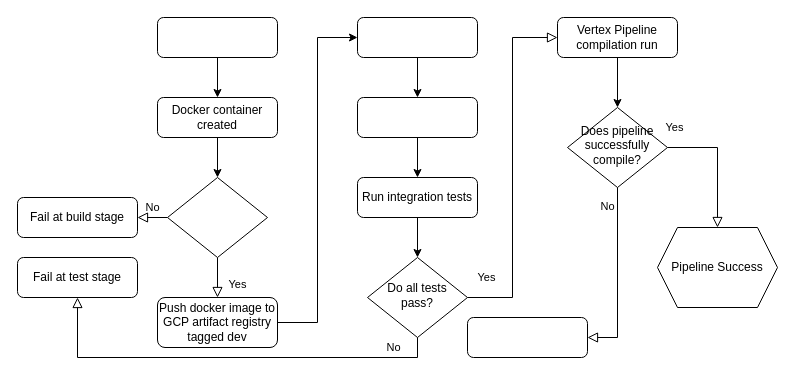
This 795x385 diagram has some shape labels left out. Each missing label, with the centre of its shape:
Does Docker image build?: point (217, 217)
Fail at deploy stage: point (527, 337)
Push to dev_branch: point (217, 37)
Run linting tests: point (417, 37)
Run unit tests: point (417, 117)
